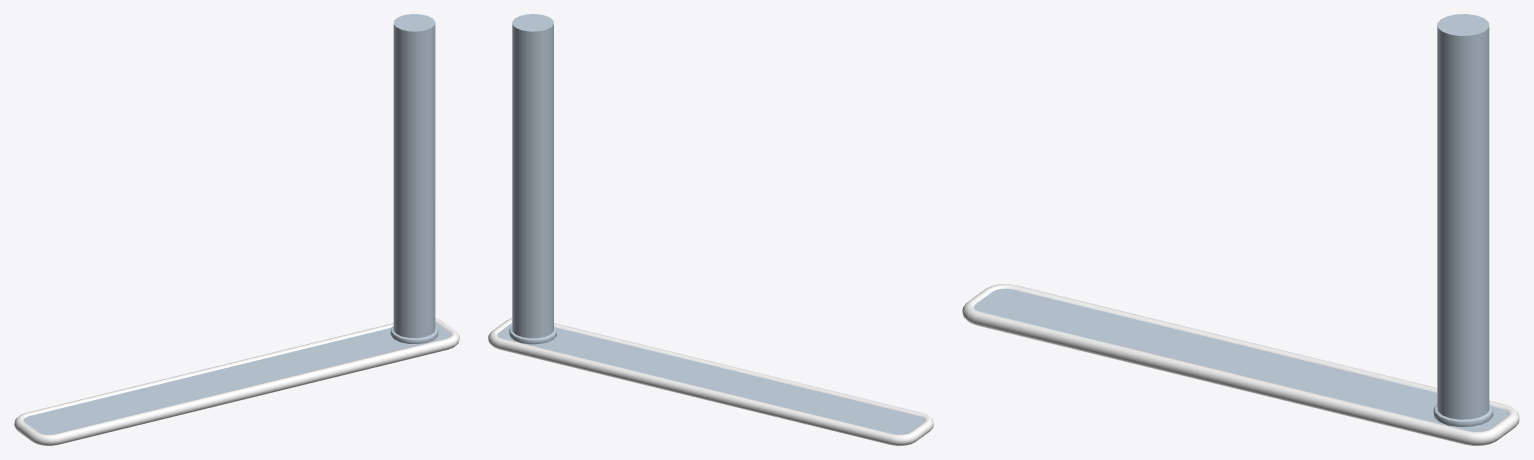
The model's file is Structure.fbx.
3 renders of one model, left to right at view 1: azimuth 30°, elevation 25°; view 2: azimuth 150°, elevation 25°; view 3: azimuth 330°, elevation 25°, orthographic. The views are drawn at different scales.
Parts seen in each view (by area): view 1: Structure; view 2: Structure; view 3: Structure.
Part boxes in pixels (x1,y1,x2,y2): Structure: (14,14,459,445); Structure: (488,14,933,445); Structure: (962,14,1519,445).
Size of the model in its own units: 17.05 by 12.23 by 2.39.
